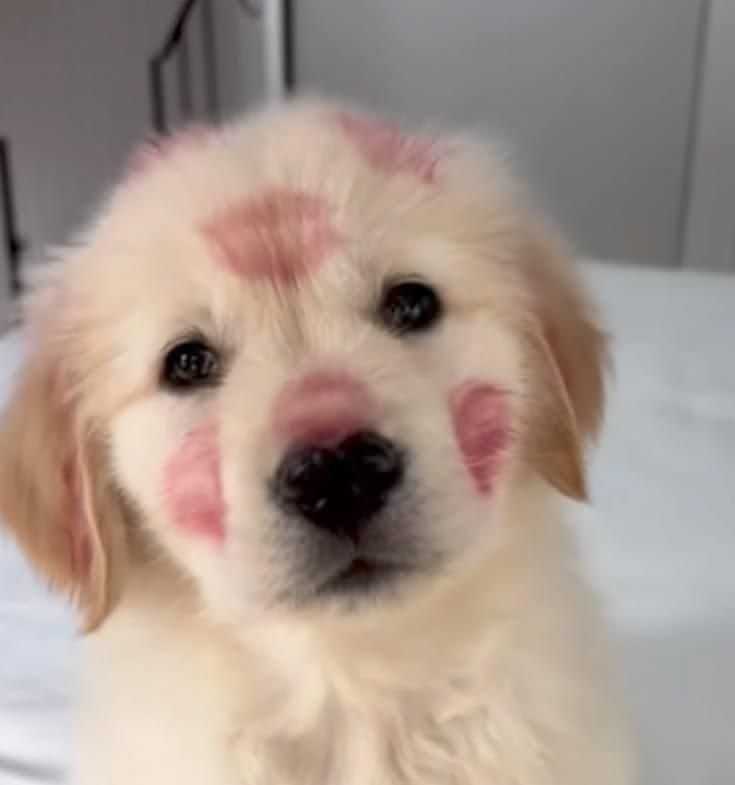puppy-dog: (1, 96, 637, 785)
